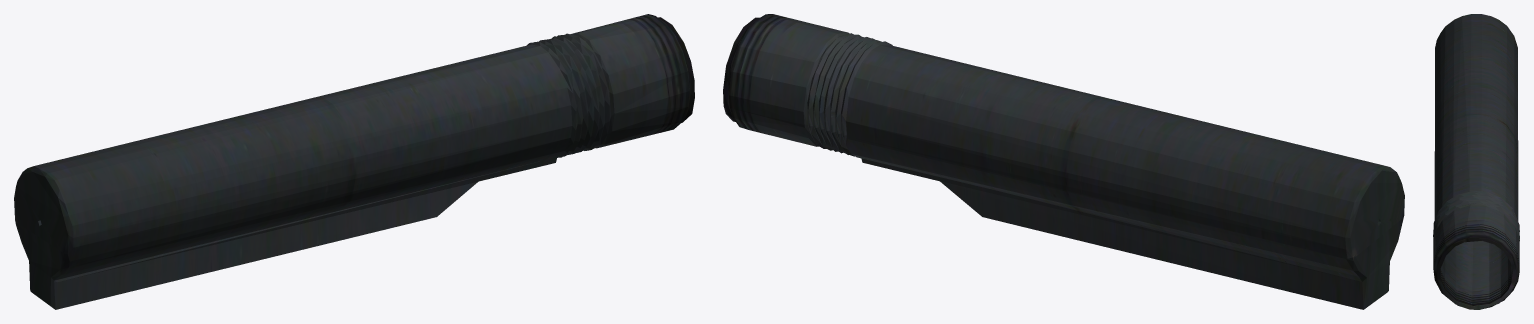
The model's file is Lower_Receiver_Extension.dae.
The picture shows the model from 3 angles, left to right: view 1: azimuth 30°, elevation 25°; view 2: azimuth 150°, elevation 25°; view 3: azimuth 270°, elevation 25°; orthographic projection. The views are drawn at different scales.
Visible parts, largest first — view 1: Lower_Receiver_Extension; view 2: Lower_Receiver_Extension; view 3: Lower_Receiver_Extension.
Part boxes in pixels (x1,y1,x2,y2): Lower_Receiver_Extension: [14, 14, 694, 309]; Lower_Receiver_Extension: [723, 14, 1404, 309]; Lower_Receiver_Extension: [1433, 14, 1519, 309].
Size of the model in its own units: 0.1794 by 0.0294 by 0.0363.
1 material, 1 textured.
